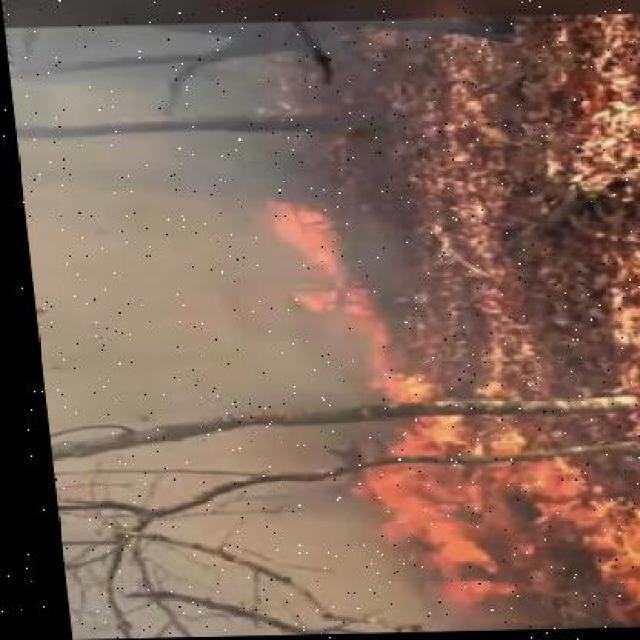fire: (361, 334, 630, 597), (265, 187, 348, 333)
